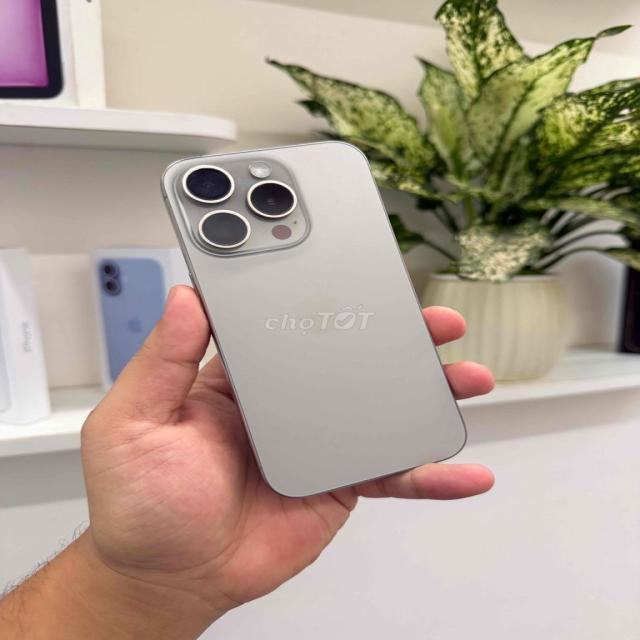gen_15: (140, 140, 487, 494)
